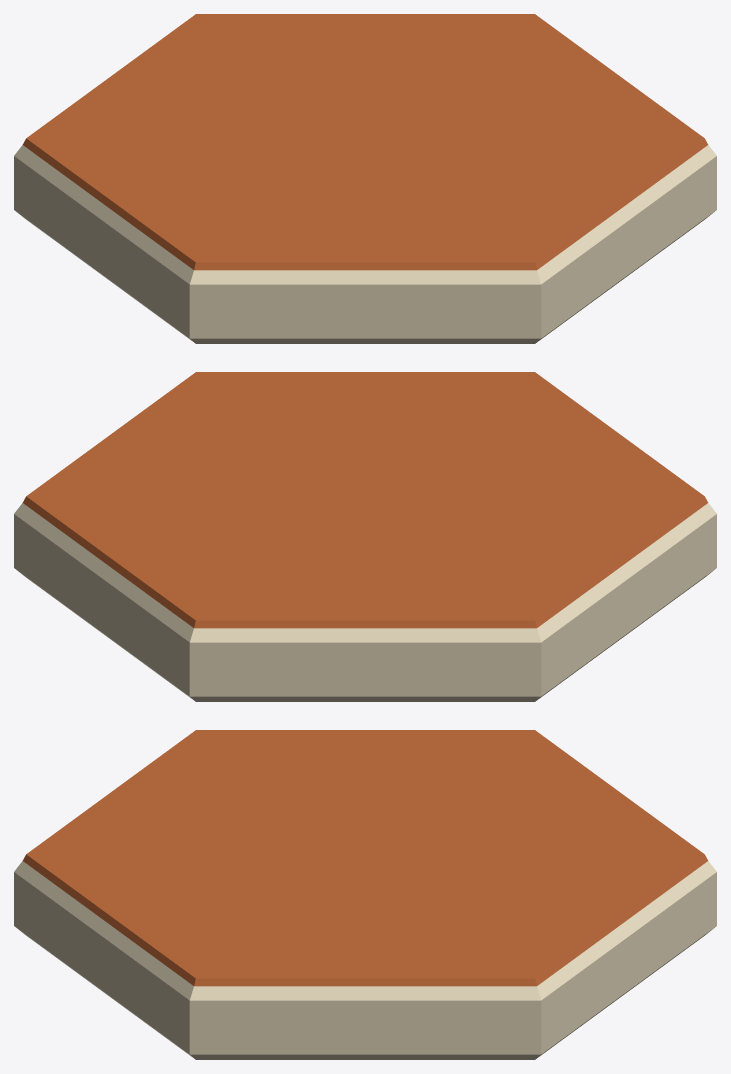
Rendered from foundation-hill.glb.
3 views of the same model, one above another, from view 1: azimuth 30°, elevation 25°; view 2: azimuth 150°, elevation 25°; view 3: azimuth 270°, elevation 25° (orthographic).
Parts seen in each view (by area): view 1: foundation-hill.003, foundation-hill.001, foundation-hill.002, foundation-hill; view 2: foundation-hill.003, foundation-hill.001, foundation-hill.002, foundation-hill; view 3: foundation-hill.003, foundation-hill.001, foundation-hill.002, foundation-hill.
Part boxes in pixels (x1=…): foundation-hill.003: x1=22, y1=14, x2=708, y2=270; foundation-hill.001: x1=14, y1=156, x2=716, y2=338; foundation-hill.002: x1=14, y1=145, x2=716, y2=284; foundation-hill: x1=16, y1=211, x2=714, y2=343; foundation-hill.003: x1=22, y1=372, x2=708, y2=628; foundation-hill.001: x1=14, y1=514, x2=716, y2=696; foundation-hill.002: x1=14, y1=503, x2=716, y2=642; foundation-hill: x1=16, y1=569, x2=714, y2=701; foundation-hill.003: x1=22, y1=730, x2=708, y2=986; foundation-hill.001: x1=14, y1=872, x2=716, y2=1054; foundation-hill.002: x1=14, y1=861, x2=716, y2=1000; foundation-hill: x1=16, y1=927, x2=714, y2=1059.
Bounding box in the file's own units: 1.7 × 0.25 × 1.96.
